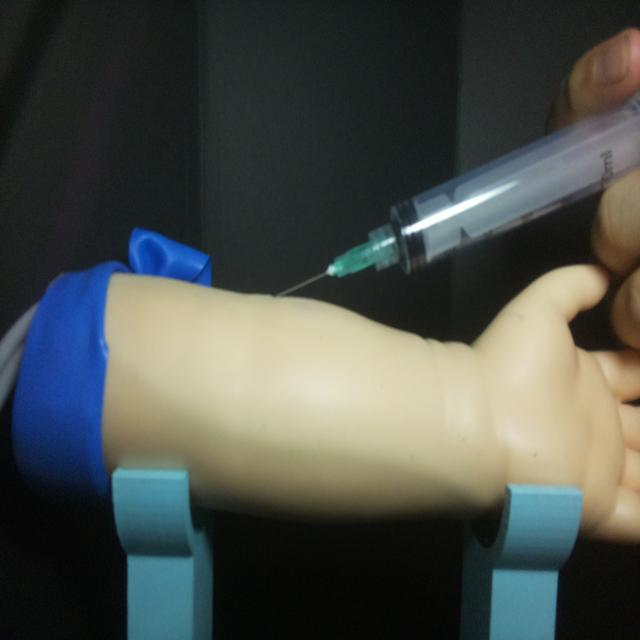17deg: (273, 93, 640, 299)
